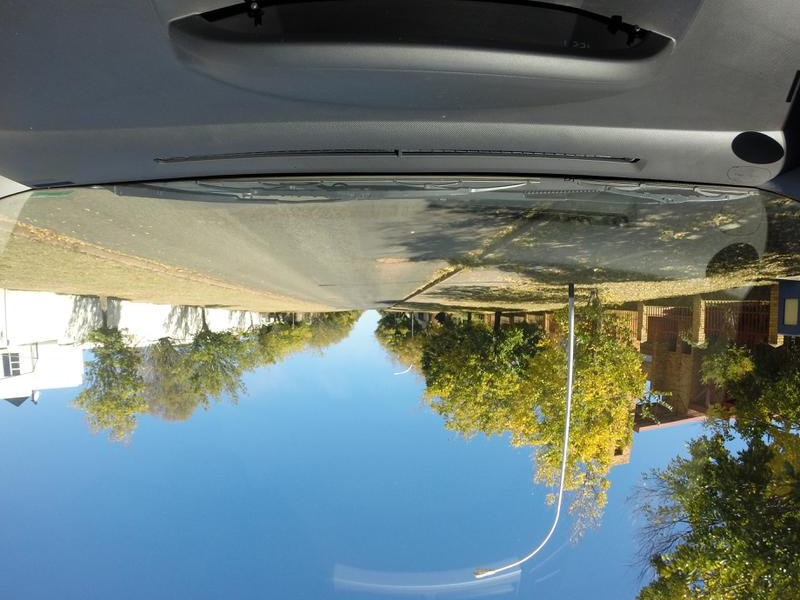pothole: (367, 250, 416, 270)
